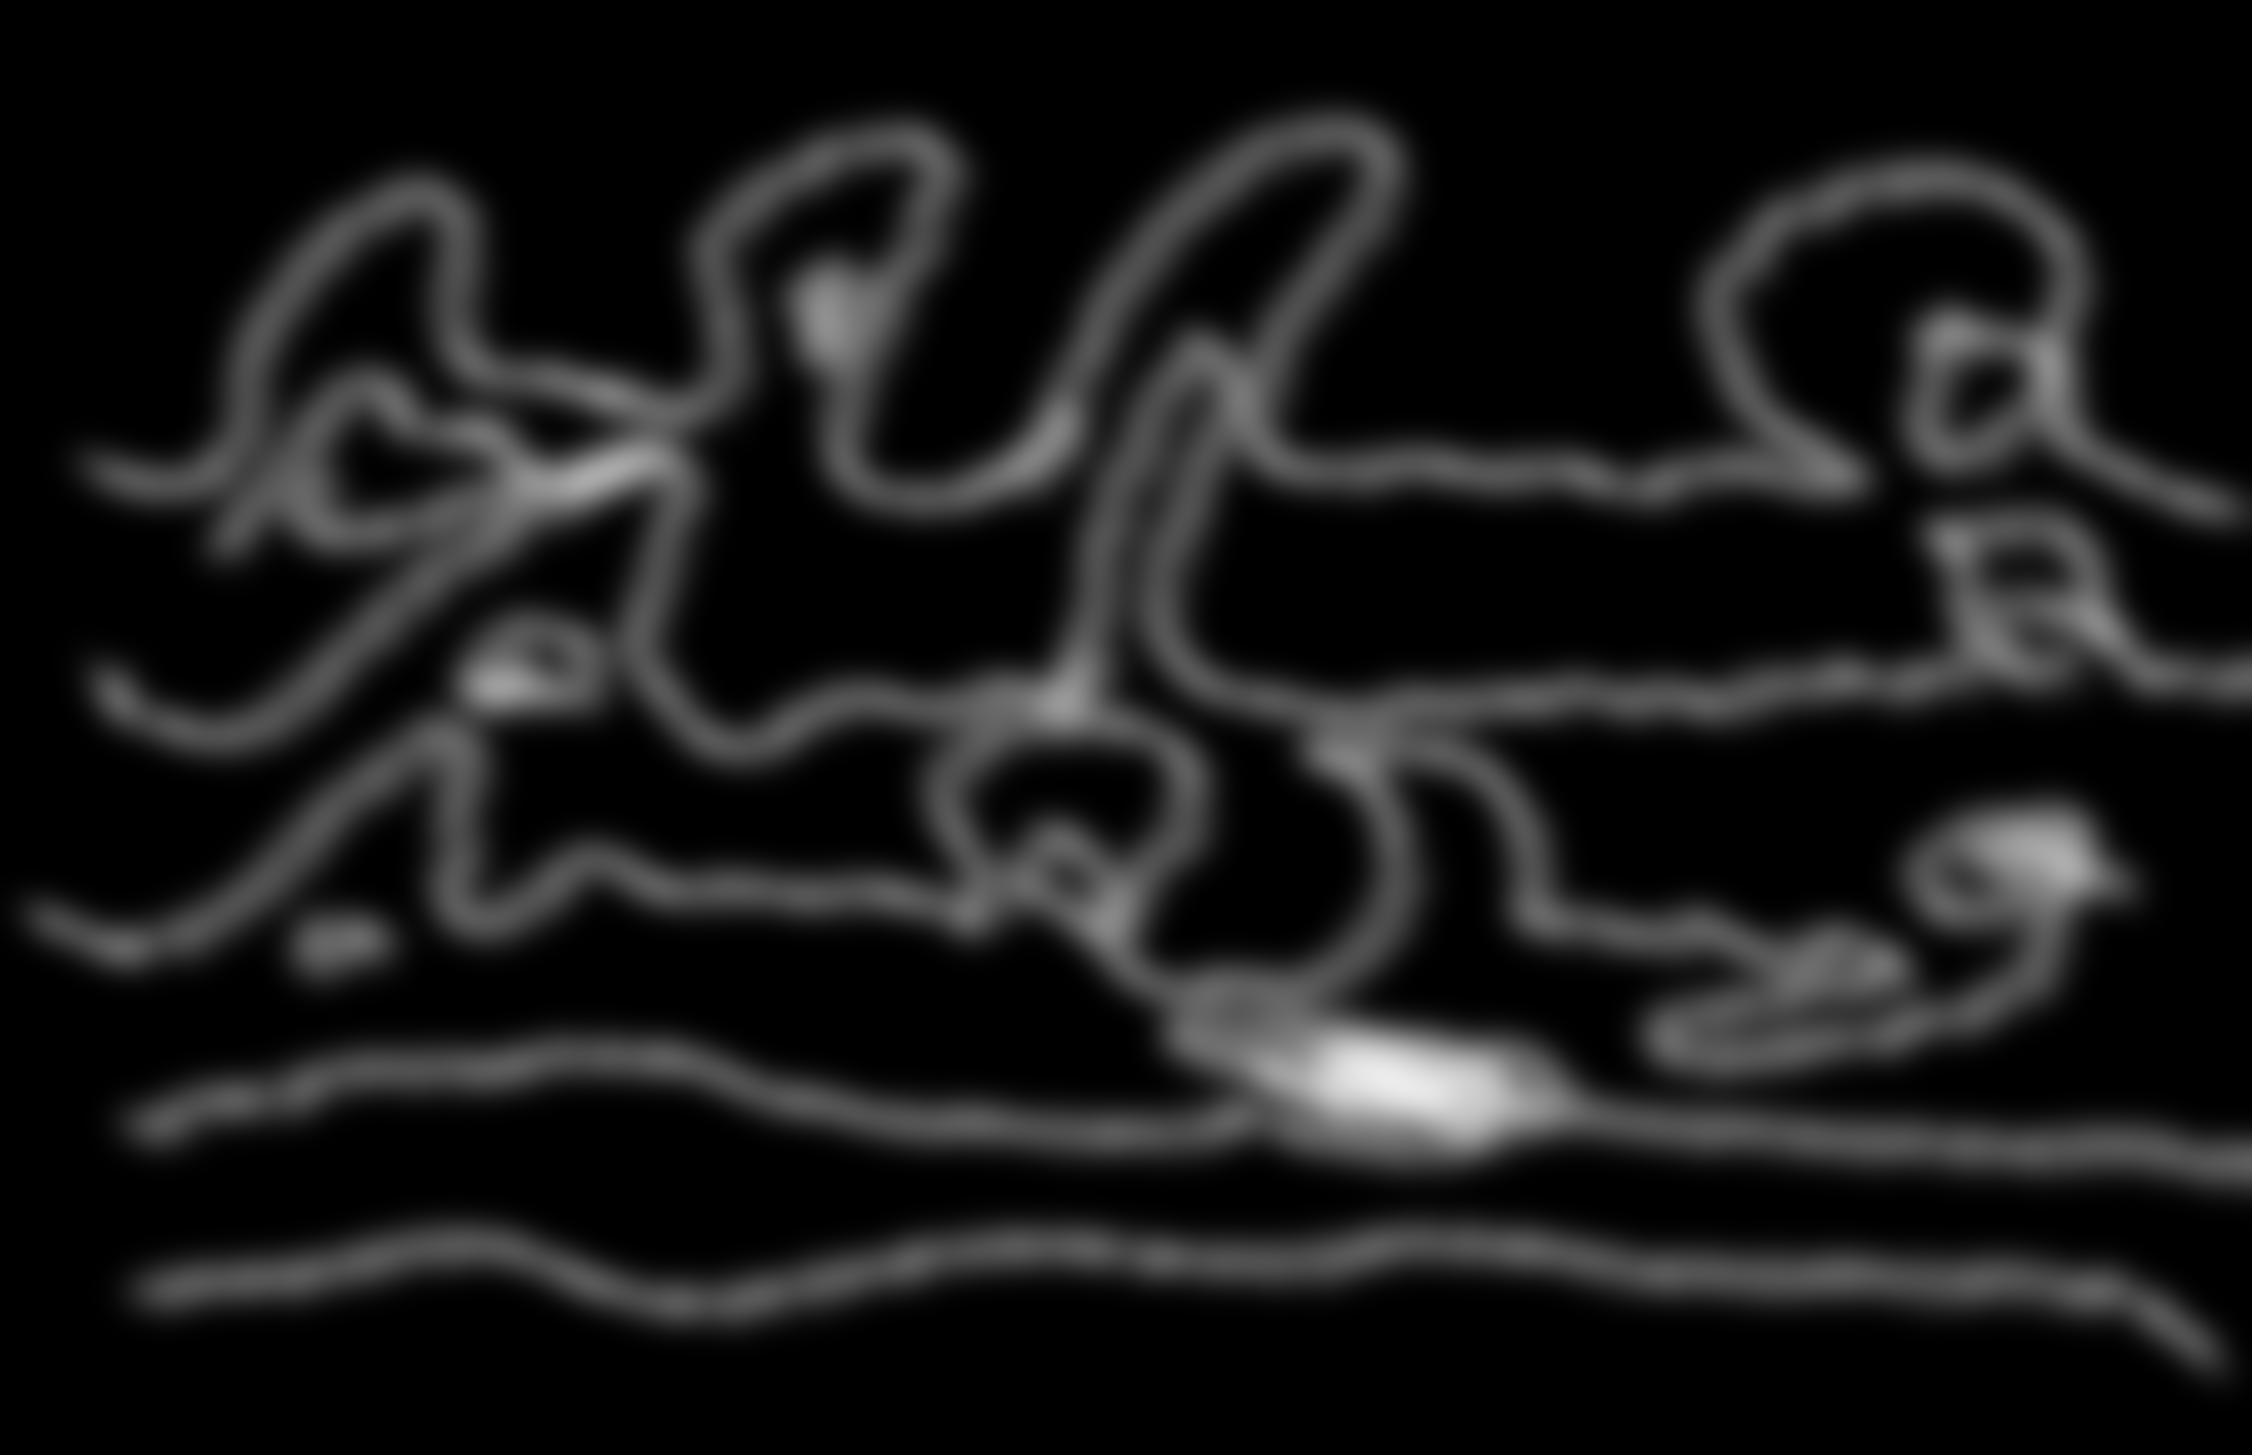turbulence: (43, 122, 2237, 1394)
